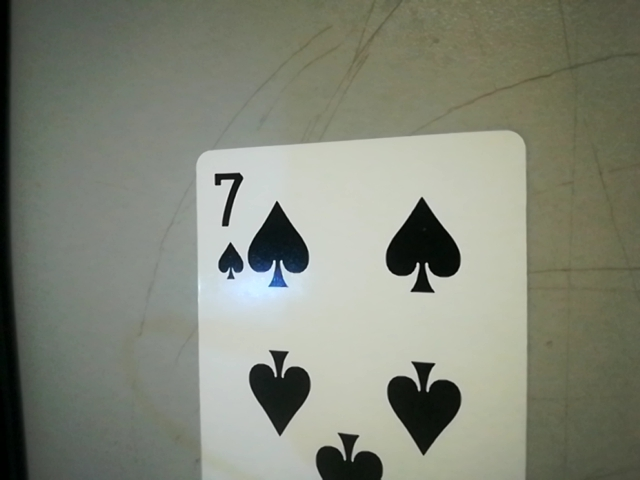ht 7: (197, 162, 250, 286)
